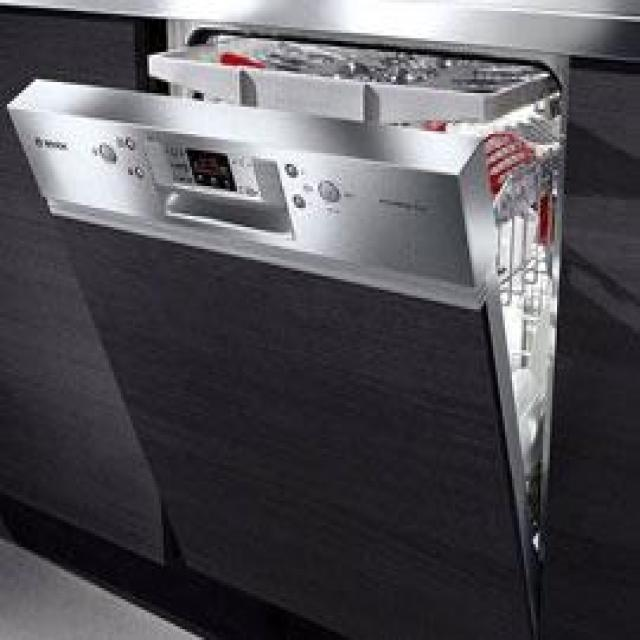dishwasher: (12, 8, 571, 635)
